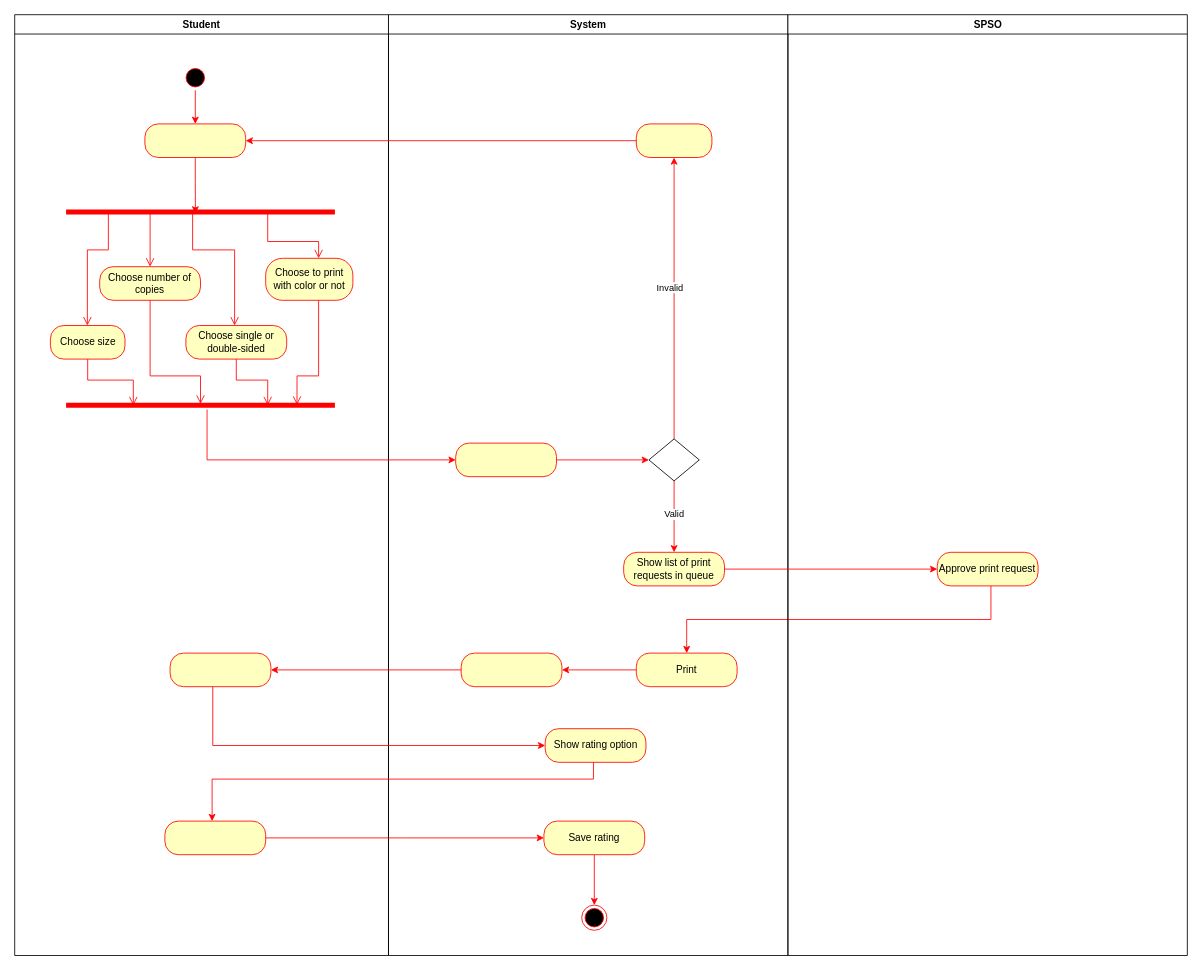
Some shapes in this 1202 by 970 pixel diagram are drawn without their labels. Here are the shapes that lost their labels. From the top down, the centre of each, then its label:
pixel 195 140: Choose upload config
pixel 673 140: Alert
pixel 505 459: Check pages left in account
pixel 220 669: Confirm
pixel 511 669: Show list of printed document
pixel 215 837: Write rating
